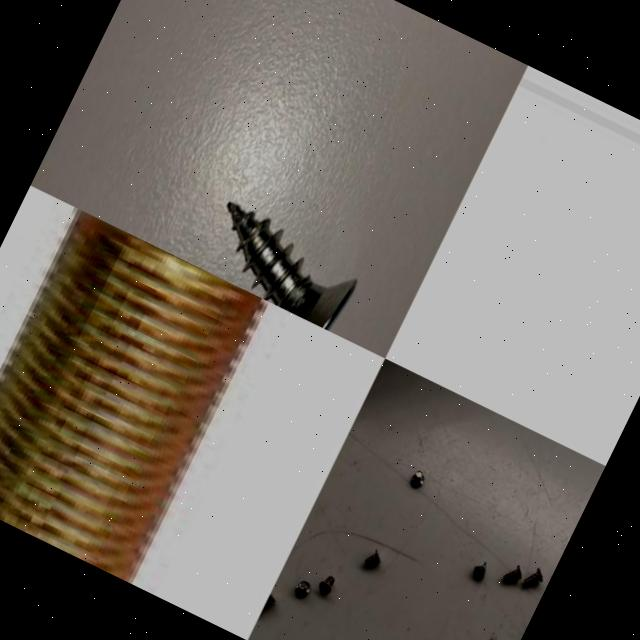Screw: (0, 207, 271, 583), (228, 201, 357, 331), (497, 558, 528, 592), (358, 543, 386, 575), (520, 562, 548, 594), (313, 568, 339, 600), (290, 574, 316, 602), (258, 588, 280, 620), (406, 466, 430, 492), (468, 556, 492, 582)
